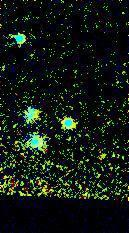star: (85, 141, 115, 171)
